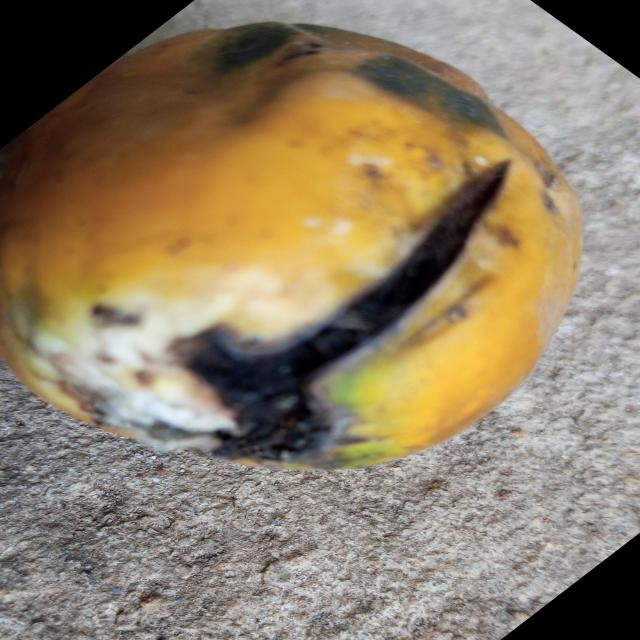damaged: (0, 23, 582, 469)
